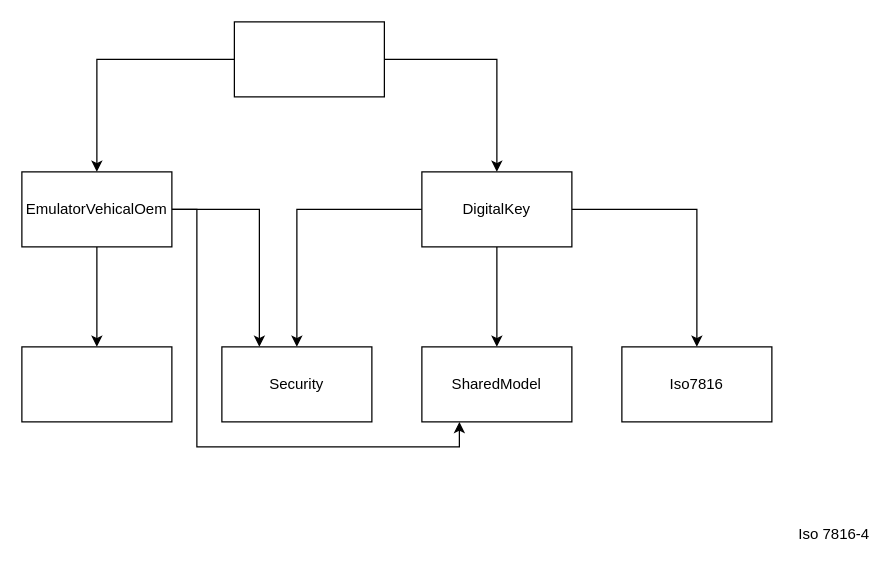
This 894x575 diagram has some shape labels left out. The shapes that lost their labels are listed below. From the top down, each one's centre as x and y in pixels, then its label:
At (x=308, y=59): "app".
At (x=96, y=384): "NFCTool".
